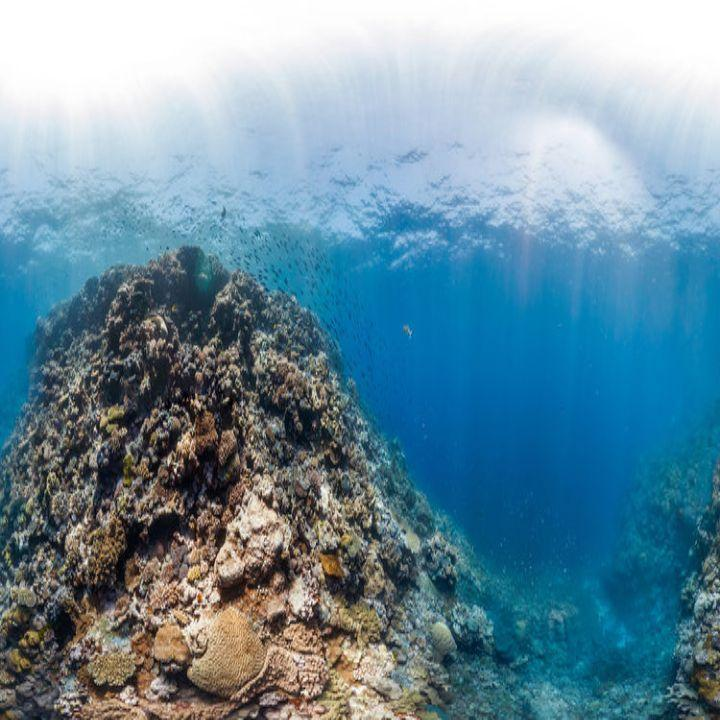Dead Coral: (27, 271, 456, 719)
